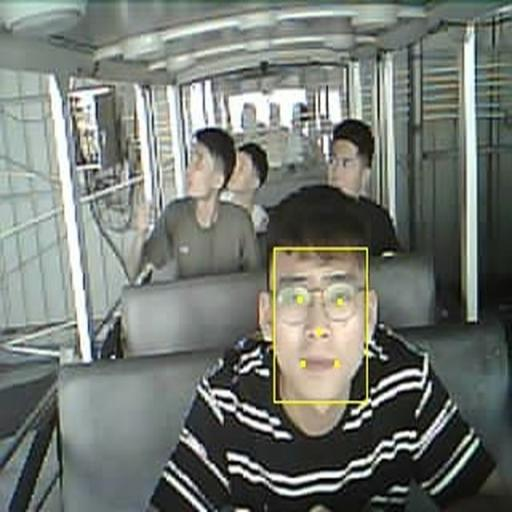persona: (145, 183, 497, 511), (138, 126, 262, 284), (324, 118, 400, 256), (219, 142, 270, 236)
